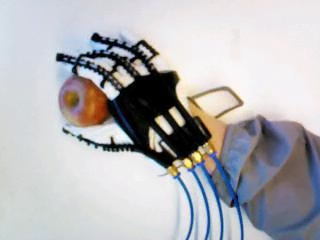apple: (57, 72, 112, 126)
hand: (56, 32, 212, 177)
